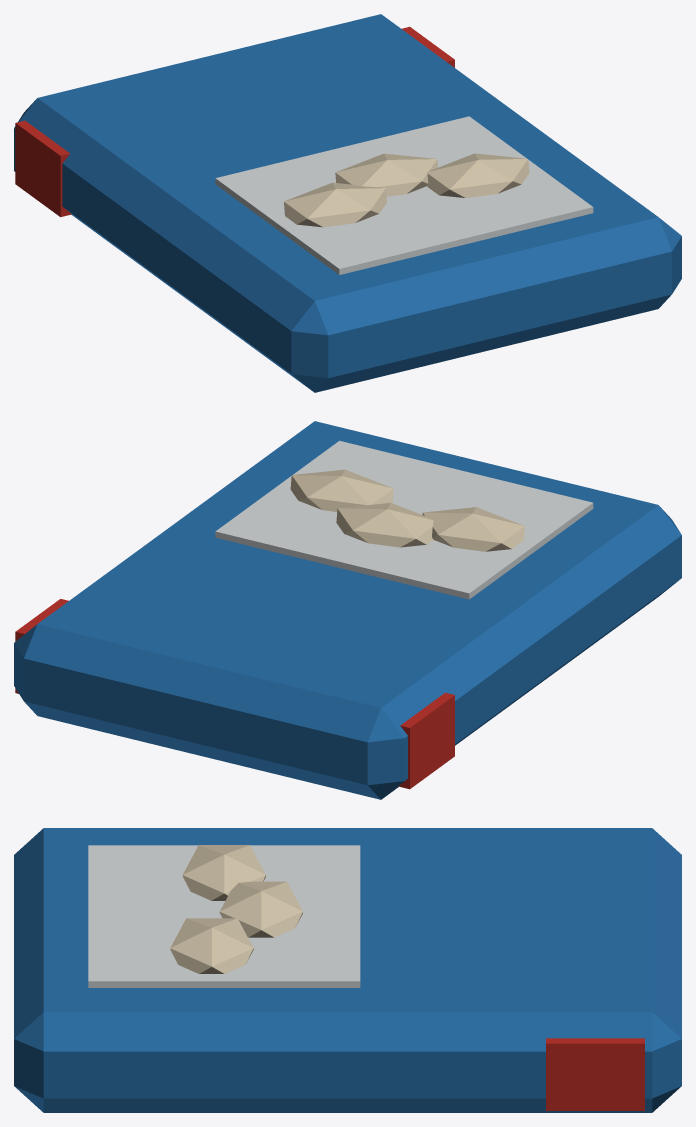
File: hh_goi_dong.glb
3 views of the same model, one above another, from view 1: azimuth 30°, elevation 25°; view 2: azimuth 150°, elevation 25°; view 3: azimuth 270°, elevation 25° (orthographic). The views are drawn at different scales.
Parts seen in each view (by area): view 1: hh_goi_dong; view 2: hh_goi_dong; view 3: hh_goi_dong.
Boxes of the visible parts, left/top/right/bottom form: hh_goi_dong: left=14, top=14, right=681, bottom=392; hh_goi_dong: left=14, top=421, right=681, bottom=799; hh_goi_dong: left=14, top=828, right=681, bottom=1112.
Bounding box in the file's own units: 0.202 × 0.0579 × 0.27.
